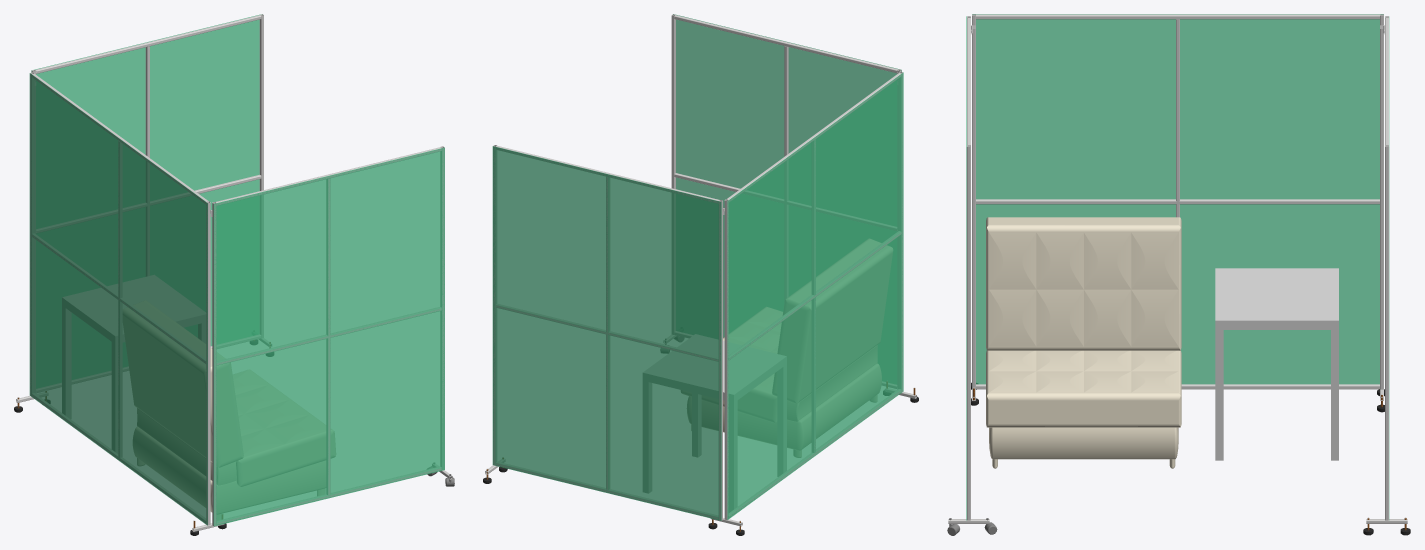
The model's file is LACTARIO.glb.
3 renders of one model, left to right at view 1: azimuth 30°, elevation 25°; view 2: azimuth 150°, elevation 25°; view 3: azimuth 270°, elevation 25°, orthographic. The views are drawn at different scales.
Parts seen in each view (by area): view 1: LACTARIO; view 2: LACTARIO; view 3: LACTARIO.
Boxes of the visible parts, <box> form: LACTARIO: <box>14,14,454,535</box>; LACTARIO: <box>483,14,918,535</box>; LACTARIO: <box>947,14,1410,535</box>.
Bounding box in the file's own units: 1.66 × 2.08 × 2.25.
8 materials, 2 textured.
